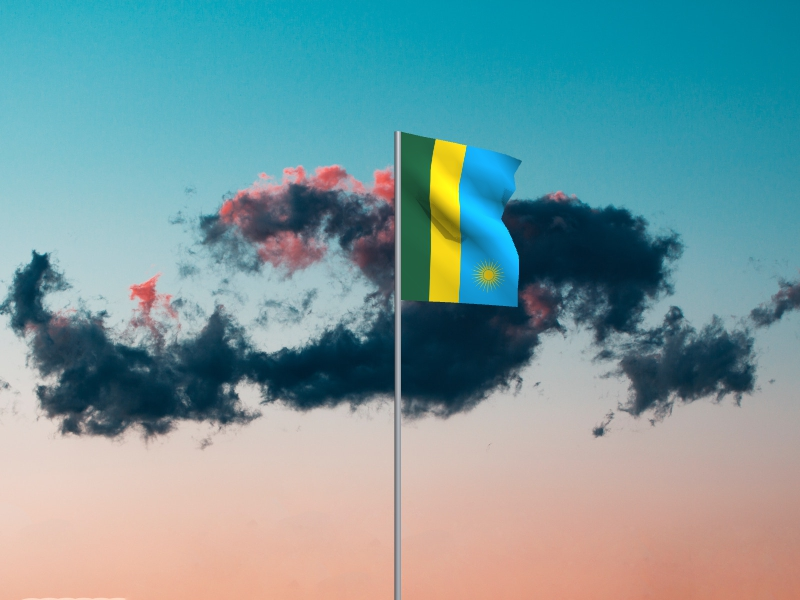rw: (402, 133, 523, 308)
